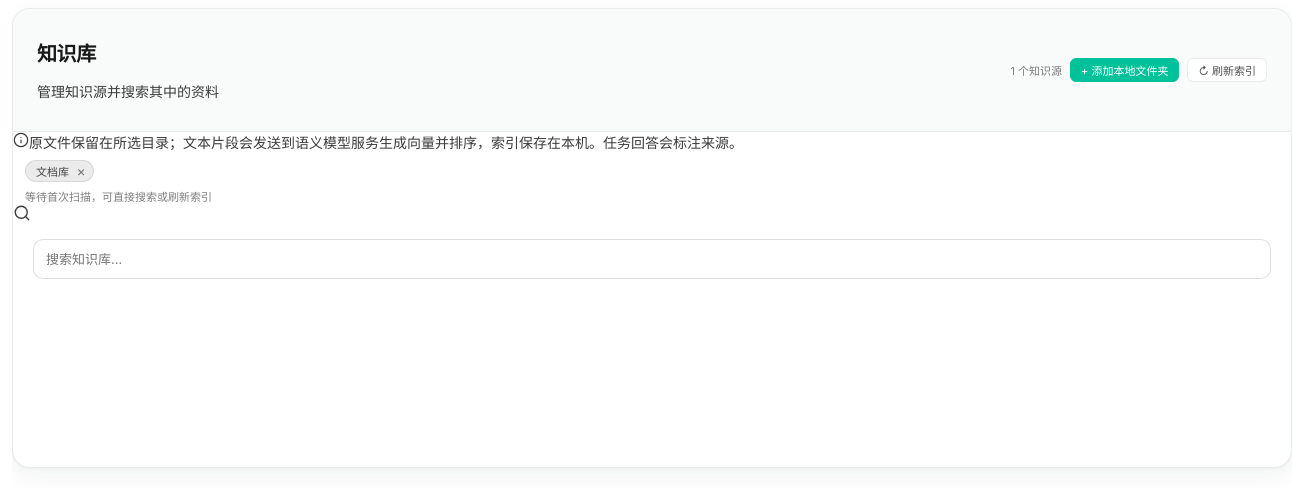
Scenario: KnowledgeBasePanel › 搜索命中显示结果(source + title)
In the field labelled "搜索知识库": (652, 259) [33,239,1271,279], type "React"
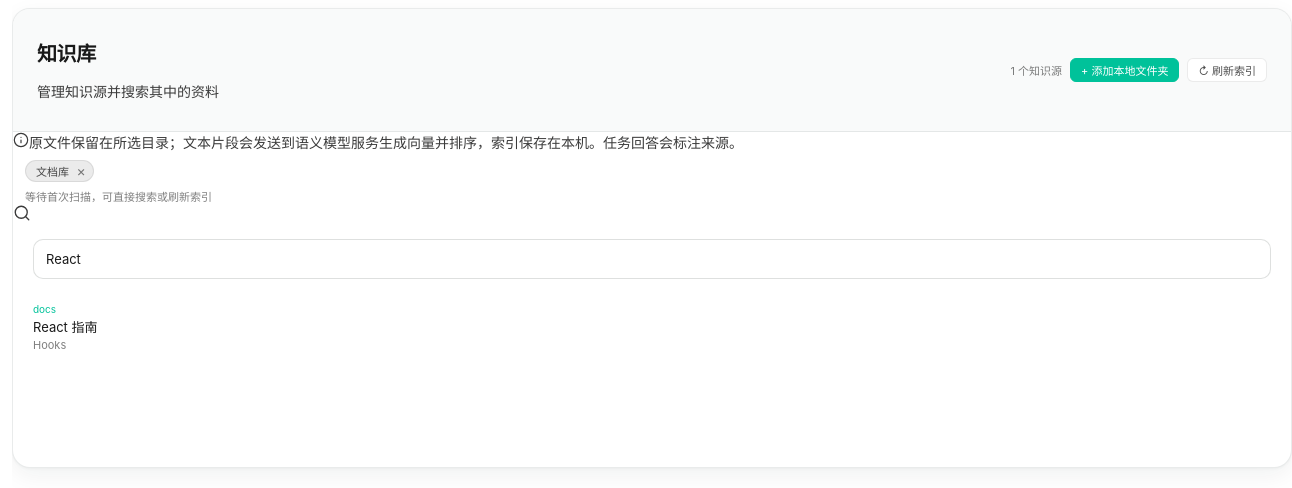
Expected: the text "React 指南" is shown, [33,317,98,336]
Expected: the text "docs" is shown, [33,303,56,315]
